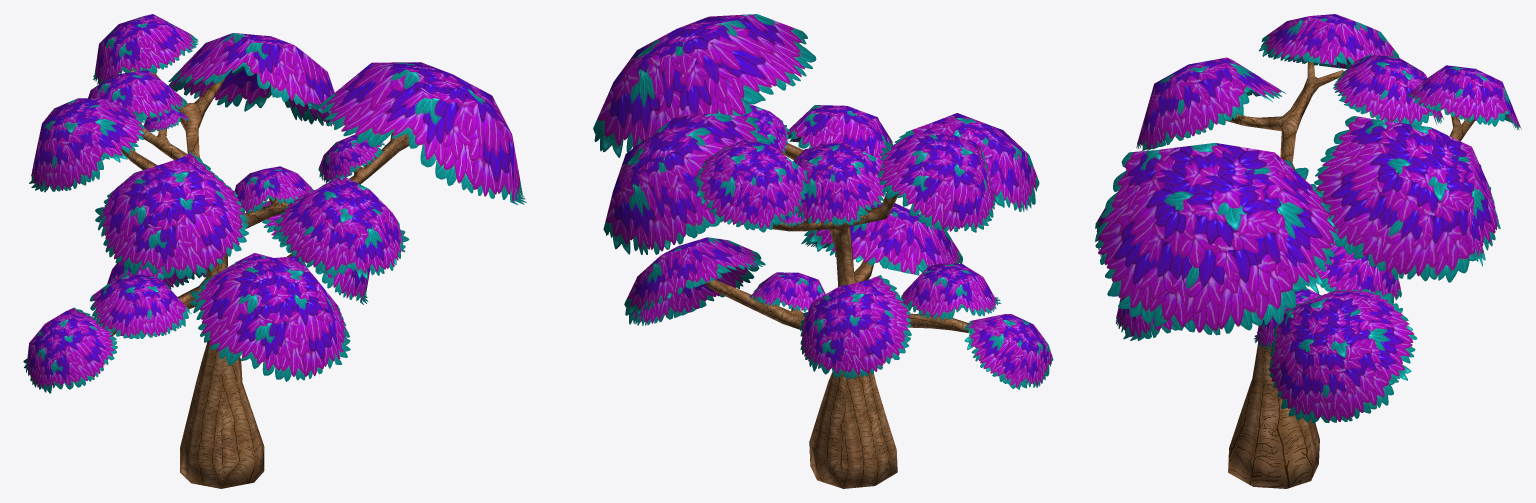
The model's file is BlueAndPurpleTree.fbx.
3 views of the same model, side by side, from view 1: azimuth 30°, elevation 25°; view 2: azimuth 150°, elevation 25°; view 3: azimuth 270°, elevation 25° (orthographic). The views are drawn at different scales.
Visible parts, largest first — view 1: Cube; view 2: Cube; view 3: Cube.
Boxes of the visible parts, x1,y1,x2,y2 form: Cube: [23, 14, 526, 488]; Cube: [593, 14, 1053, 488]; Cube: [1095, 14, 1521, 488].
Size of the model in its own units: 837 by 699 by 674.
